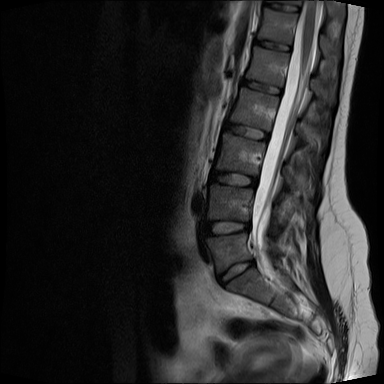Normal IVD: (213, 256, 257, 292), (207, 166, 262, 192), (200, 215, 255, 241), (225, 119, 274, 144), (238, 76, 286, 99), (251, 37, 295, 54), (261, 2, 302, 15)
